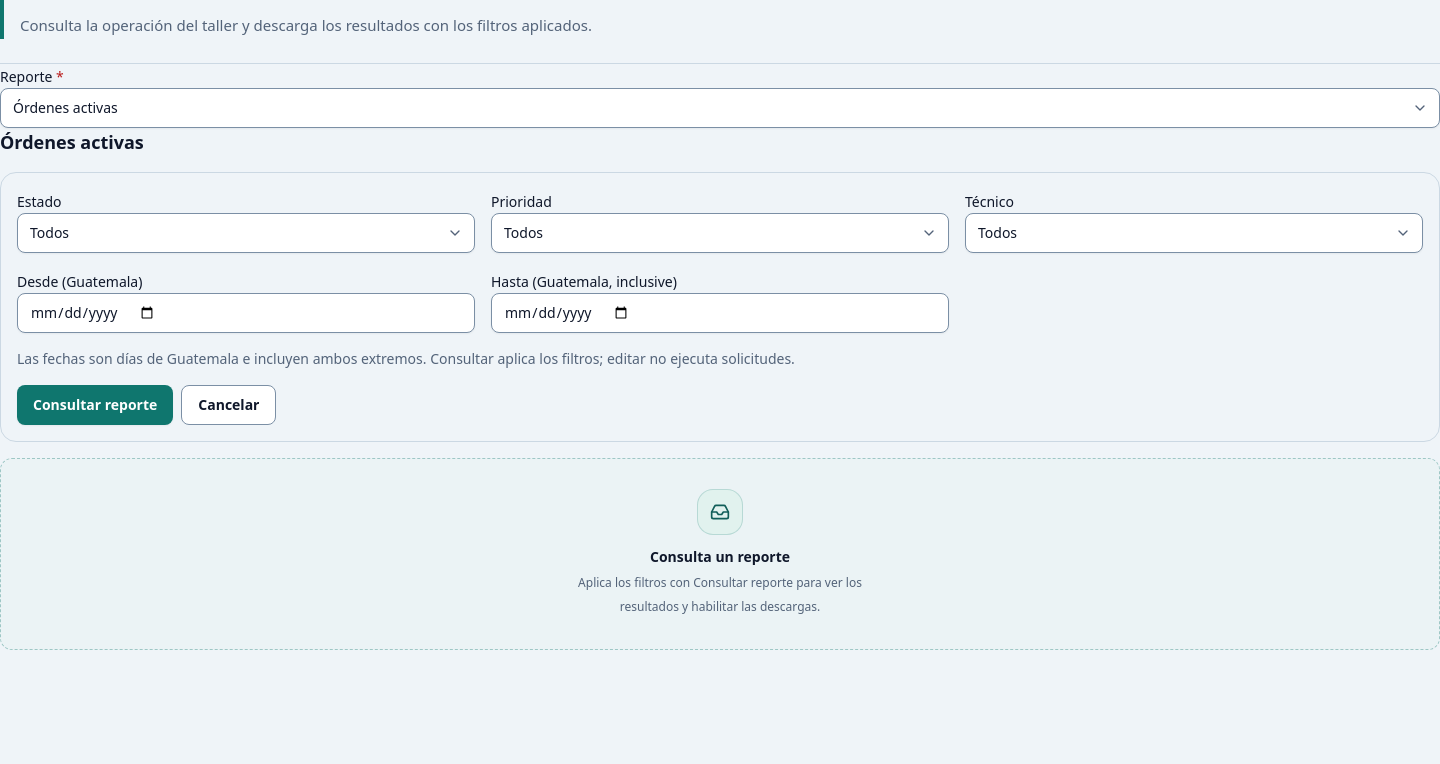
Test: Opciones operativas de reportes › pagina clientes, conserva la selección y consulta por el ID elegido
The width and height of the screenshot is (1440, 764).
Select "Historial del cliente" in the dropdown labelled "Reporte *" at x=720, y=108, box [0,88,1439,128]
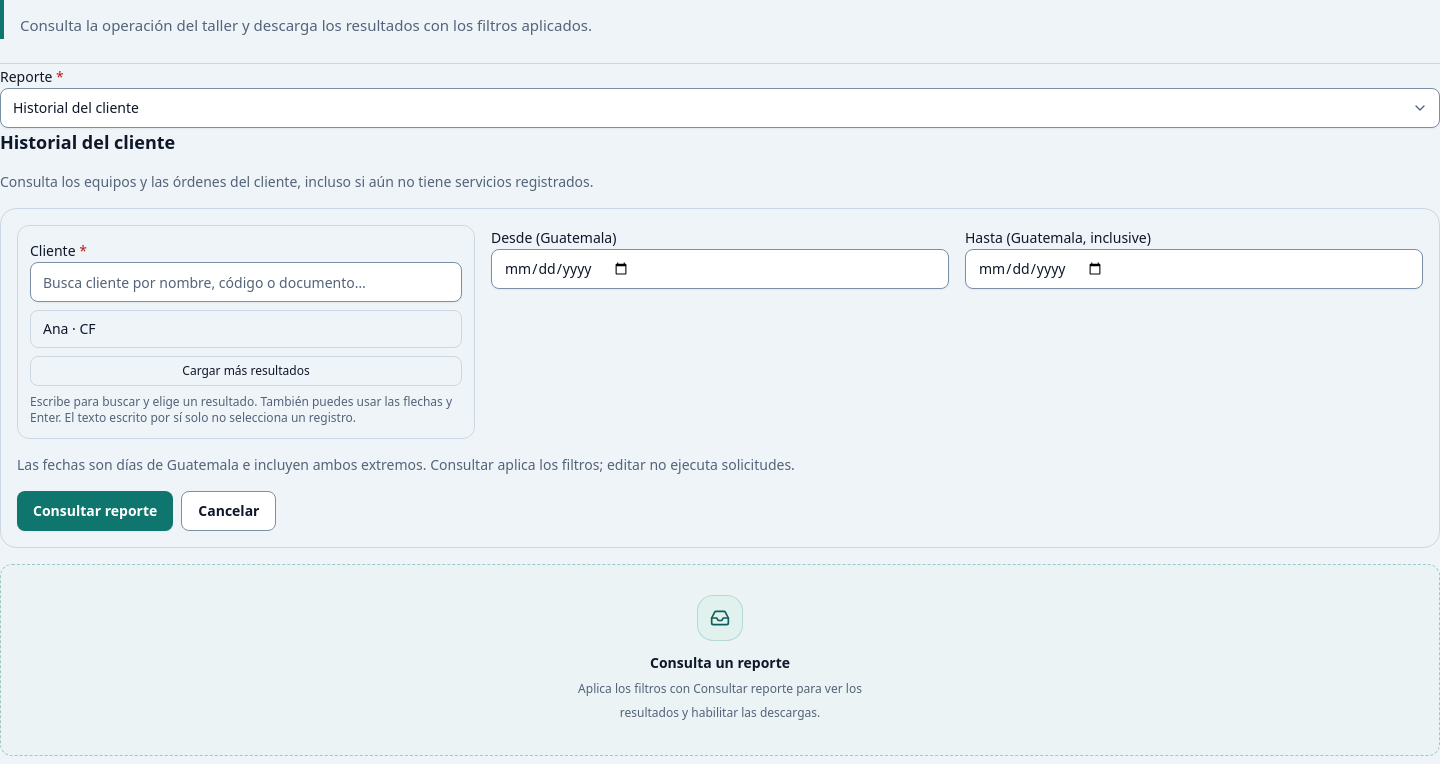
Expected: the option "Ana · CF" is shown, [31,311,461,347]
Click the button "Cargar más resultados" at x=246, y=371, box [30,356,462,386]
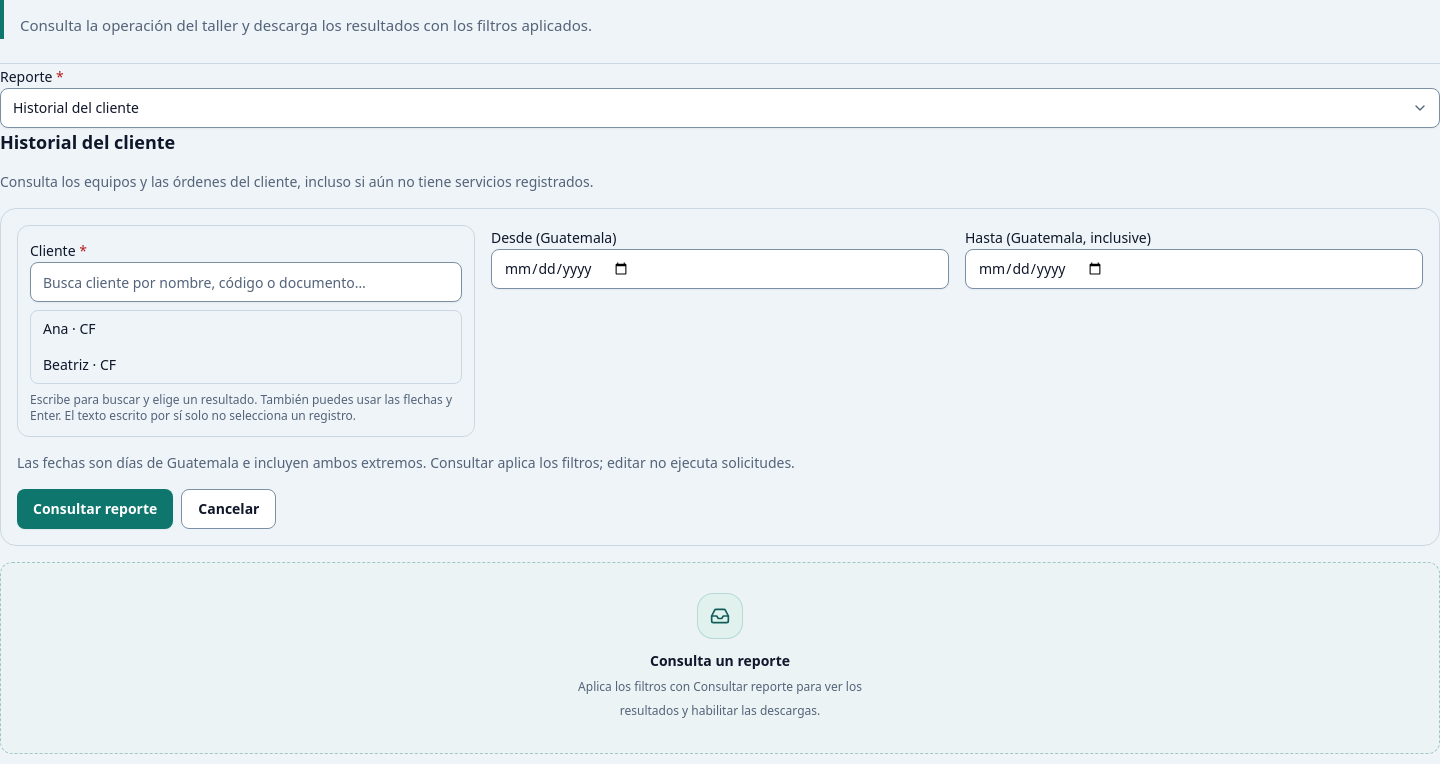
Expected: the option "Beatriz · CF" is shown, [31,347,461,383]
Click the option "Ana · CF" at x=69, y=328, box [31,311,461,347]
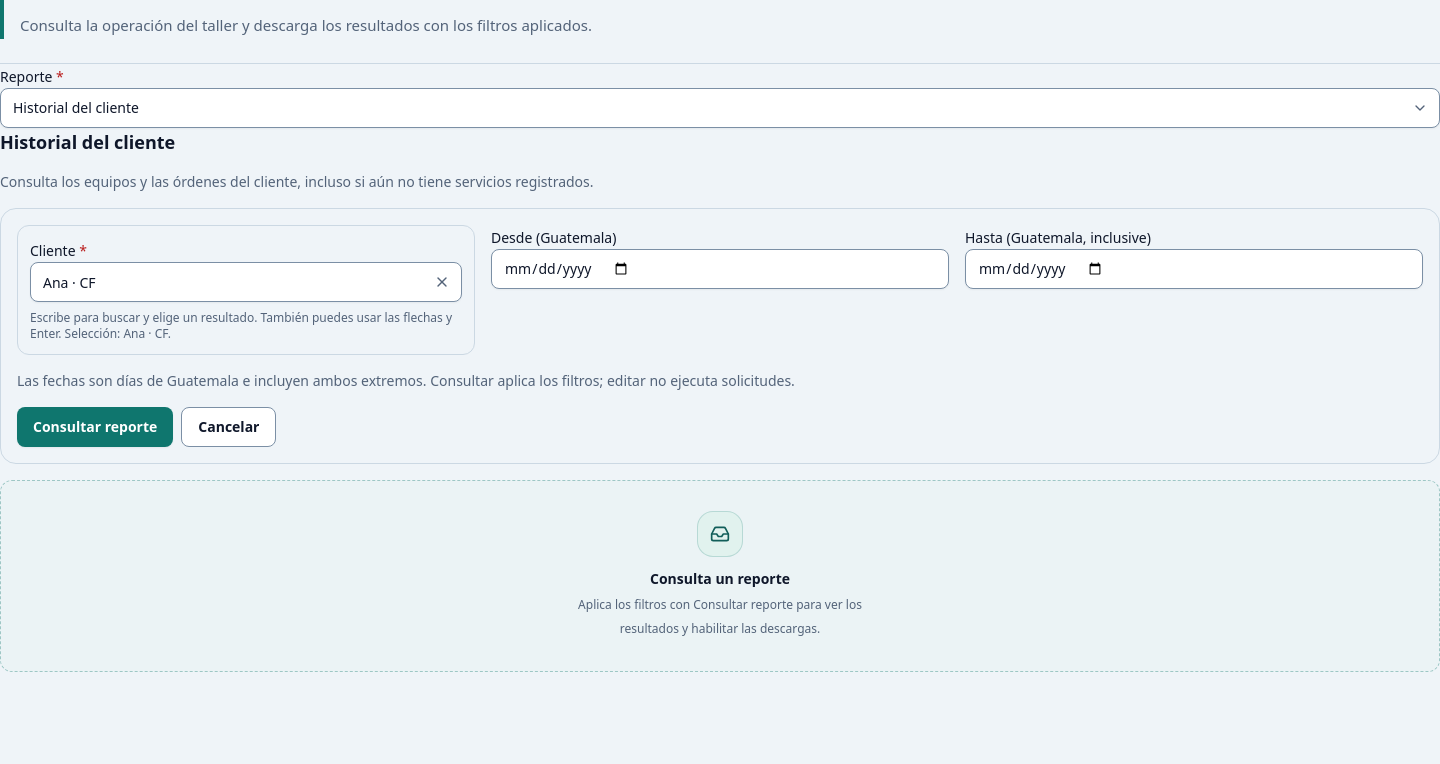
Expected: the dropdown labelled "Cliente *" holds "Ana · CF"
Focus the dropdown labelled "Cliente *" at x=246, y=282, box [30,262,462,302]
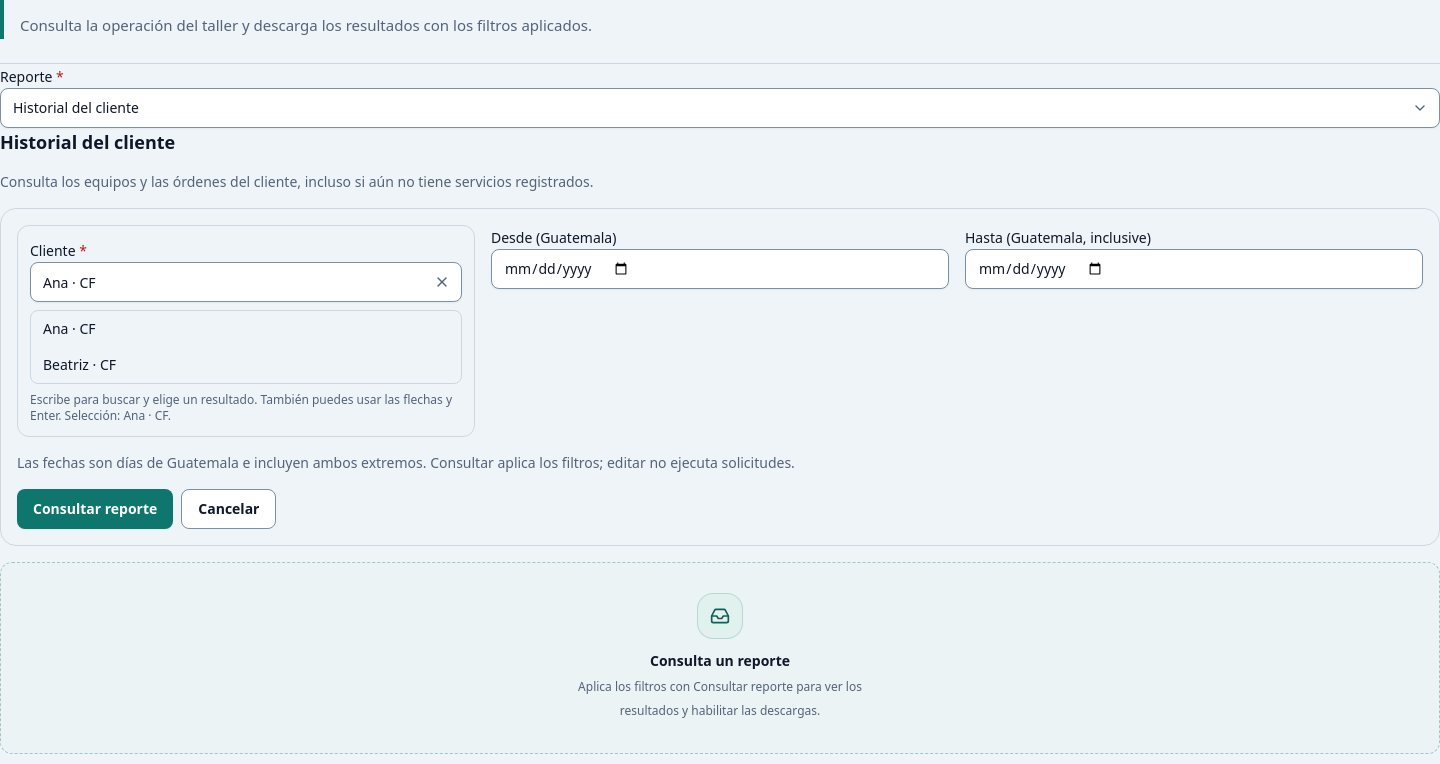
Click the option "Beatriz · CF" at x=80, y=364, box [31,347,461,383]
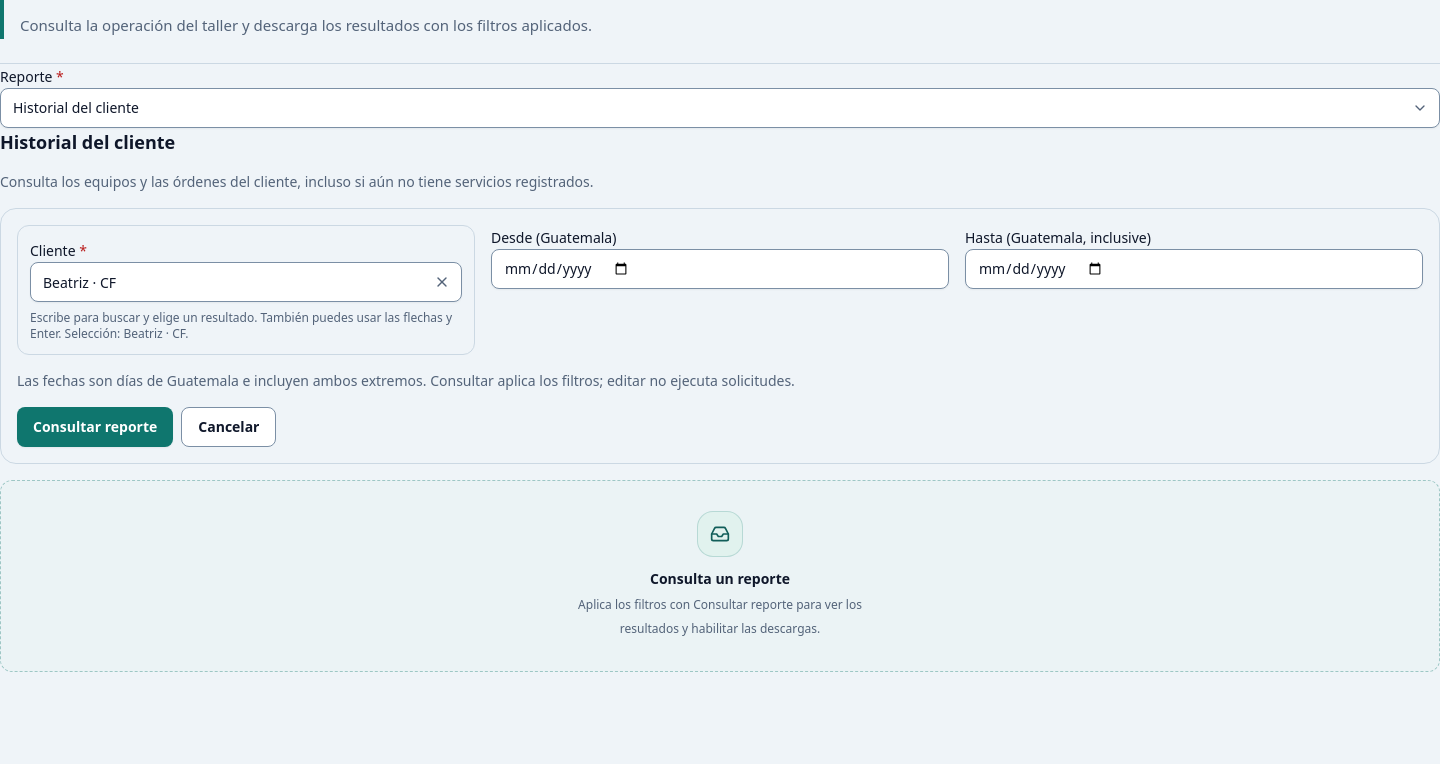
Click the button "Consultar reporte" at x=95, y=427, box [17,407,173,447]
(page scrolled)
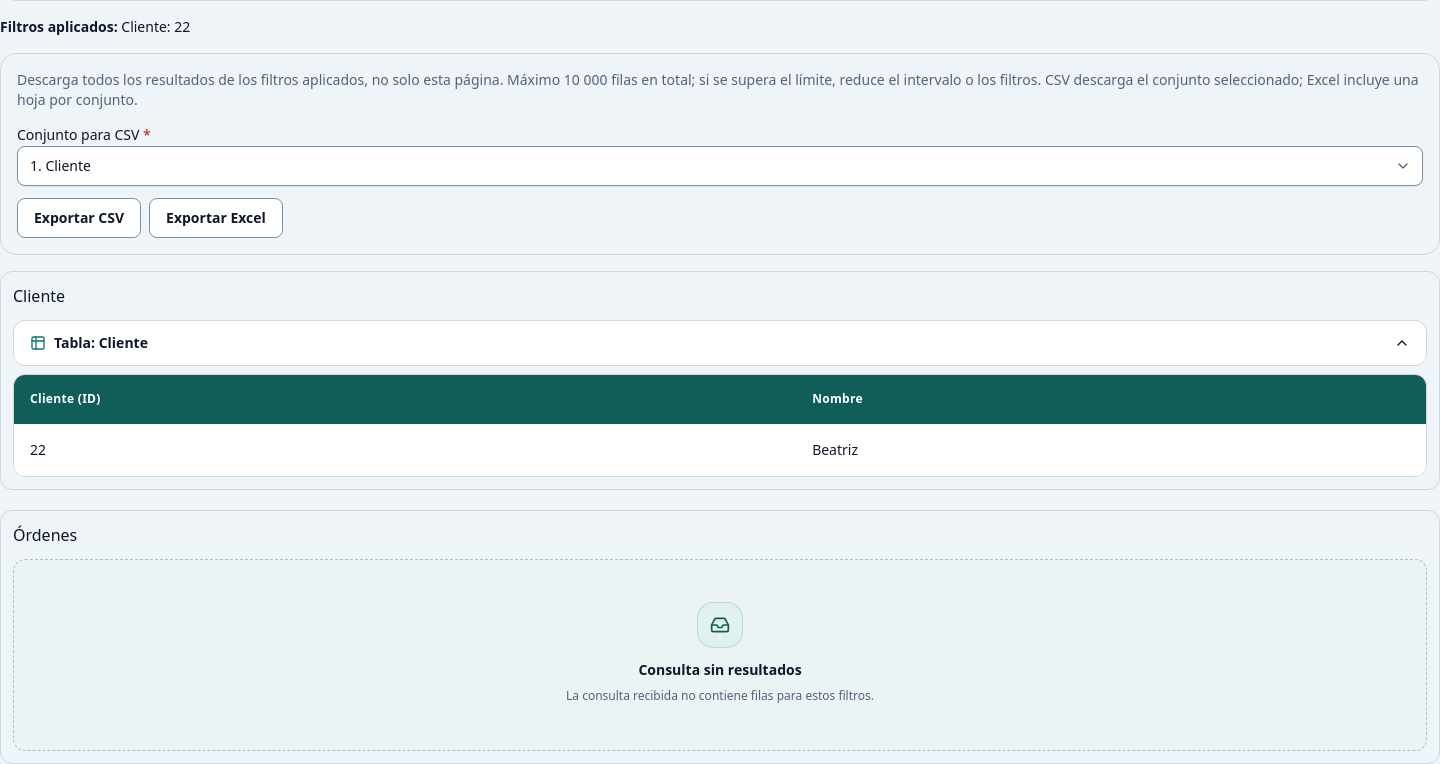
Expected: the table "Cliente" shows "Beatriz", [812,440,858,458]
